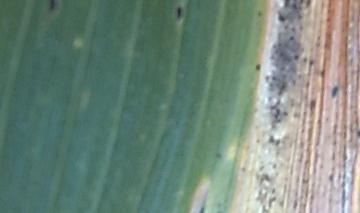tarspot: (48, 1, 58, 12), (175, 7, 183, 19), (331, 86, 339, 97), (215, 151, 224, 160), (198, 205, 207, 213), (254, 64, 262, 71), (258, 10, 263, 18)
